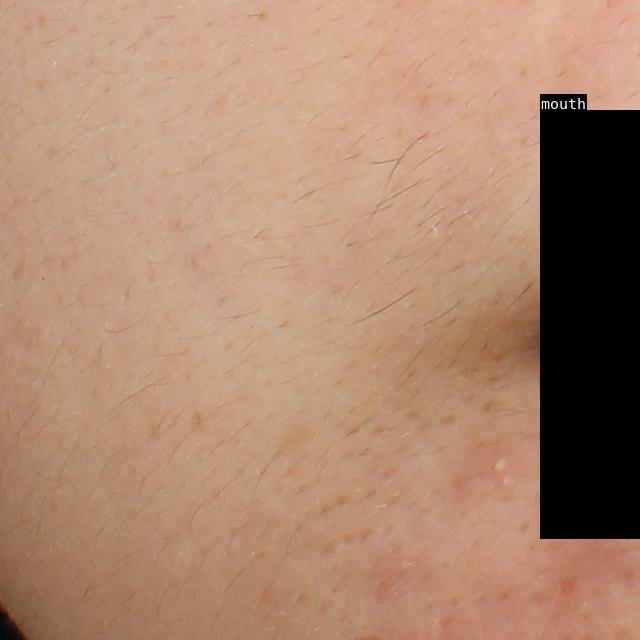pustule: (480, 449, 515, 477)
